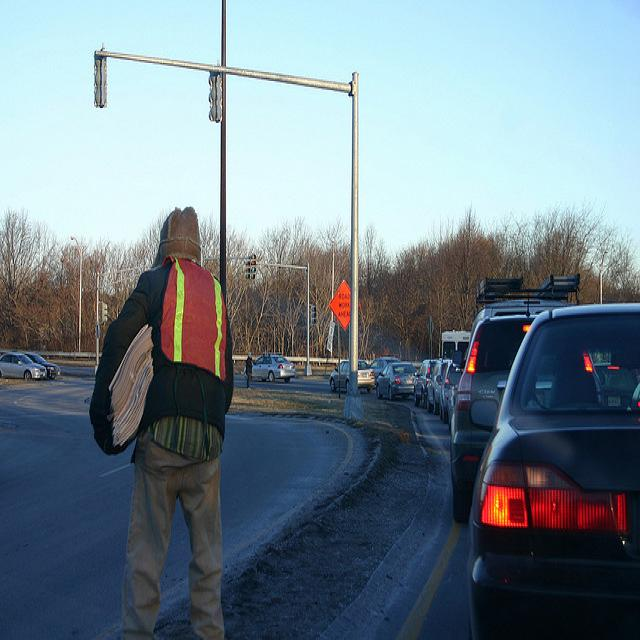Vehicle: (462, 296, 640, 633), (449, 275, 579, 521), (435, 351, 463, 421), (328, 360, 376, 395), (373, 361, 416, 400), (244, 353, 297, 384), (0, 353, 48, 382), (414, 358, 439, 409), (427, 359, 449, 415), (24, 352, 61, 381), (370, 356, 403, 379)
